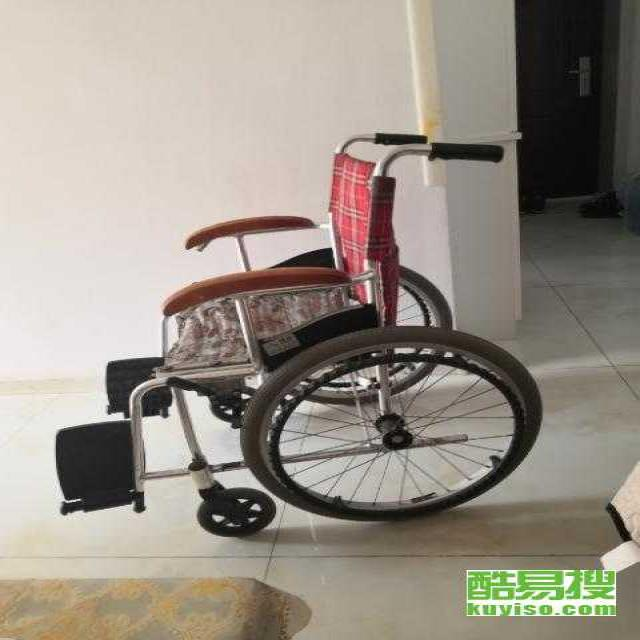wheelchair: (46, 129, 574, 531)
